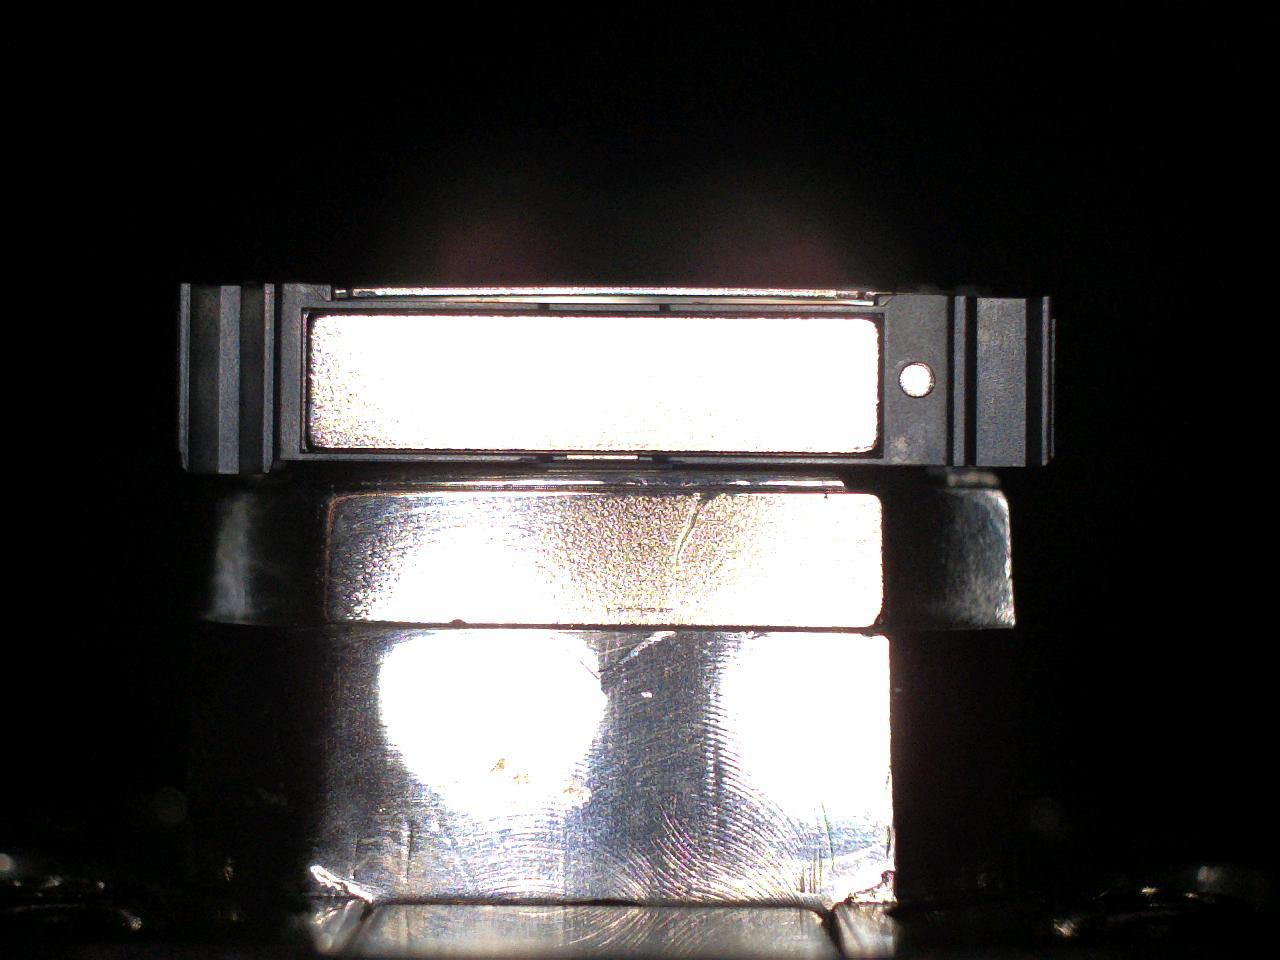frame: (178, 283, 1057, 476)
gap: (666, 450, 884, 459), (305, 448, 538, 456), (669, 312, 885, 320), (308, 312, 539, 319), (553, 450, 654, 457), (548, 312, 660, 318)
magnetic: (308, 317, 877, 452)
